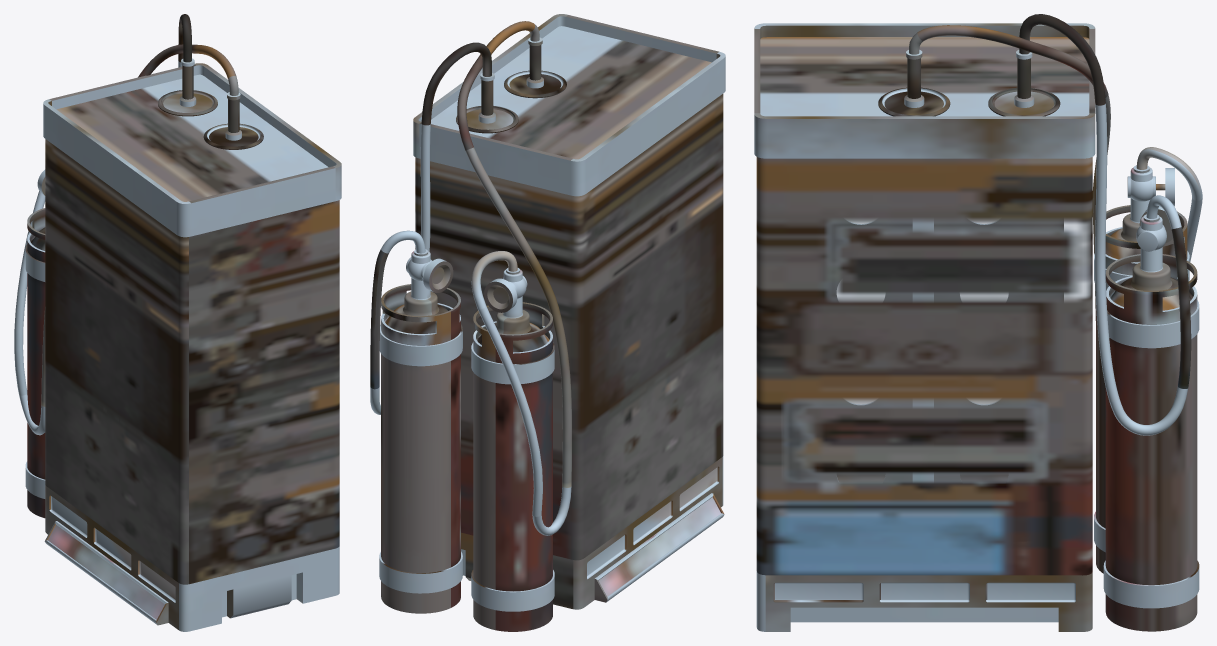
File: SM_Container_A01.gltf
3 renders of one model, left to right at view 1: azimuth 30°, elevation 25°; view 2: azimuth 150°, elevation 25°; view 3: azimuth 270°, elevation 25°, orthographic. The views are drawn at different scales.
Parts seen in each view (by area): view 1: SM_Container_A01; view 2: SM_Container_A01; view 3: SM_Container_A01.
Part boxes in pixels (x1,y1,x2,y2): SM_Container_A01: (14,14,341,631); SM_Container_A01: (370,14,725,631); SM_Container_A01: (754,14,1202,631).
Size of the model in its own units: 0.4095 by 1.08 by 0.7341.
Materials: 2 (2 with a texture image).
